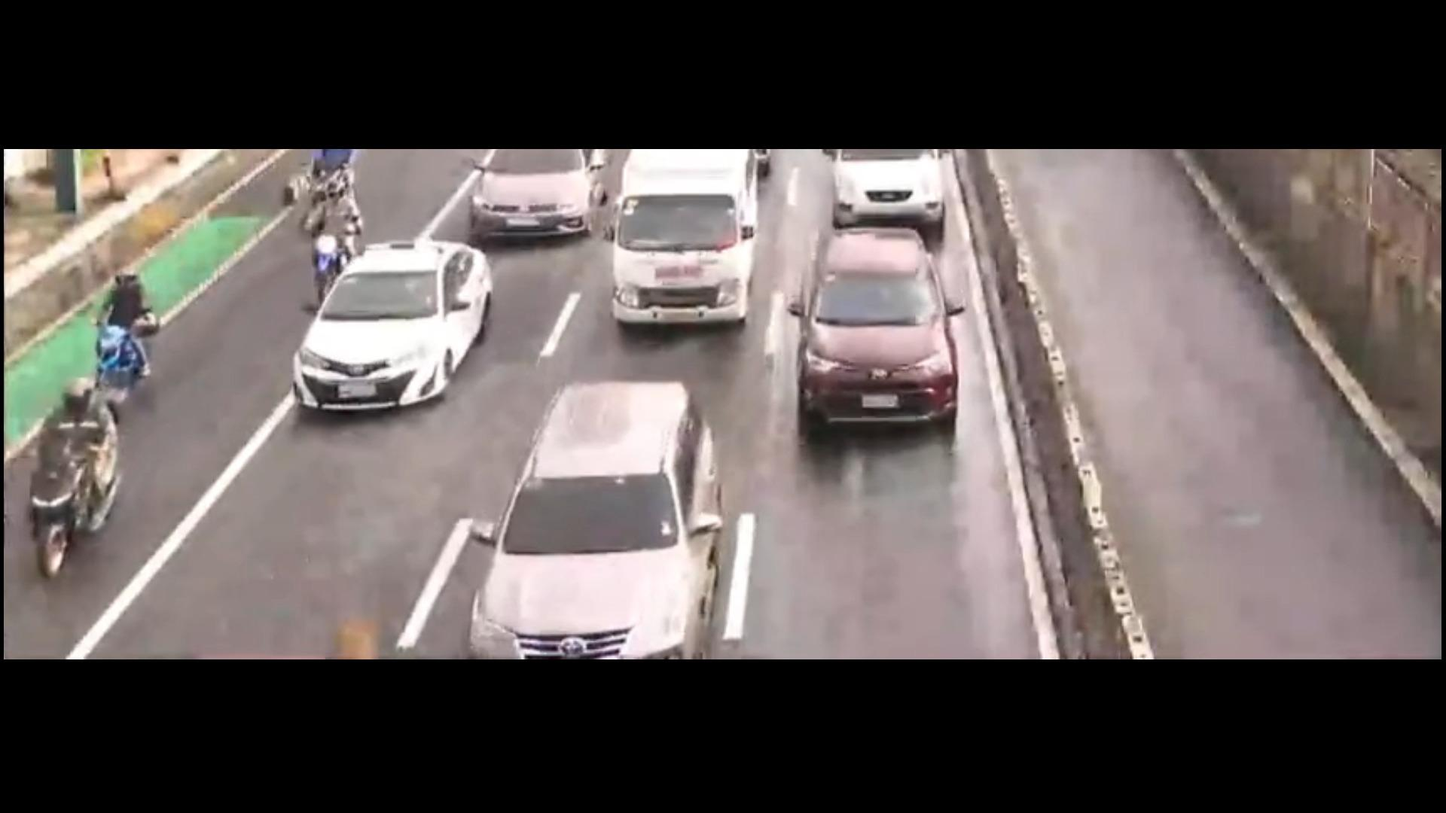Motorcycle: (21, 382, 119, 563), (83, 263, 149, 408), (296, 169, 363, 303)
SUV: (463, 380, 727, 661)
Sedan: (292, 241, 482, 410), (795, 226, 947, 420), (467, 152, 597, 245)
Truck: (601, 145, 755, 343)
